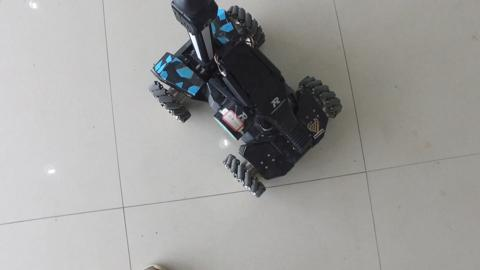chariot: (138, 1, 335, 189)
